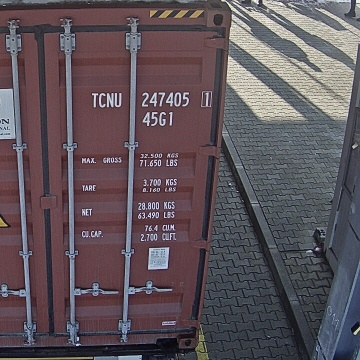serial_id: (92, 92, 210, 107)
